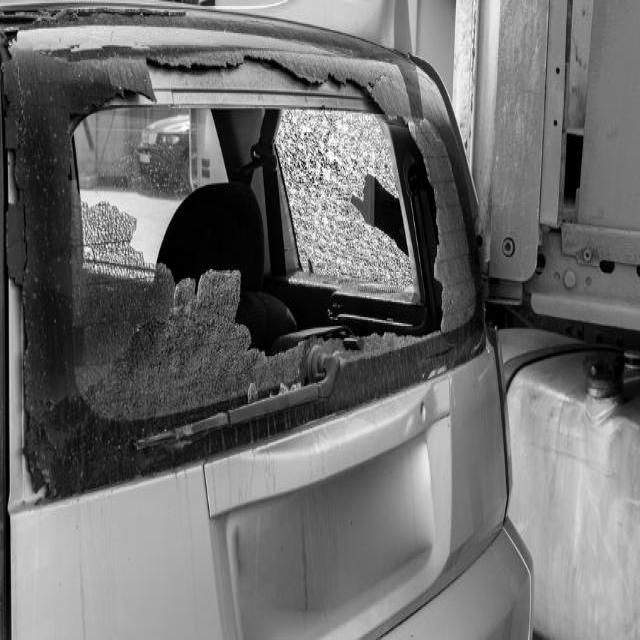Dent: (366, 66, 416, 123), (15, 476, 48, 506), (419, 401, 426, 424)
